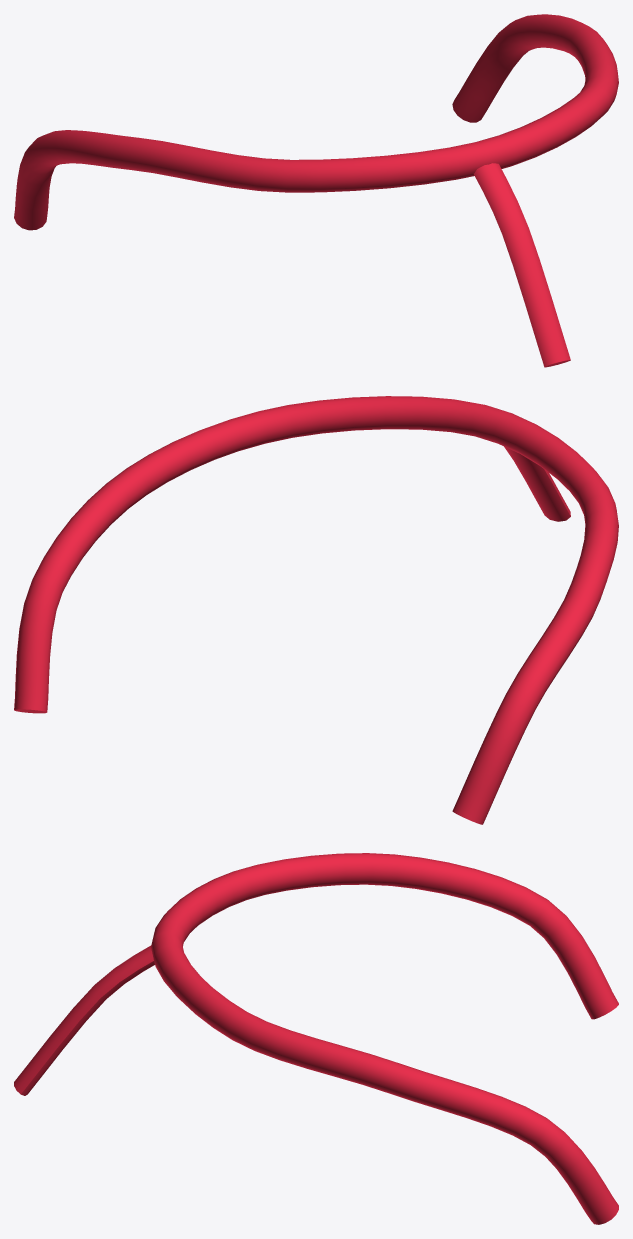
File: standard.glb
The picture shows the model from 3 angles, top to bottom: view 1: azimuth 30°, elevation 25°; view 2: azimuth 150°, elevation 25°; view 3: azimuth 270°, elevation 25°; orthographic projection. The views are drawn at different scales.
Visible parts, largest first — view 1: Halo; view 2: Halo; view 3: Halo.
Part boxes in pixels (x1,y1,x2,y2): Halo: (14, 14, 618, 367); Halo: (14, 396, 618, 824); Halo: (14, 853, 618, 1224).
Bounding box in the file's own units: 0.8287 × 0.3105 × 0.9109.
